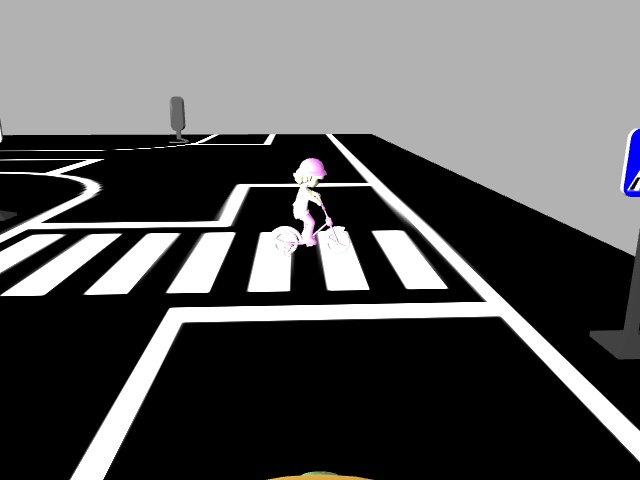Crosswalk: (619, 124, 639, 199)
Pedestrian: (272, 153, 357, 259)
